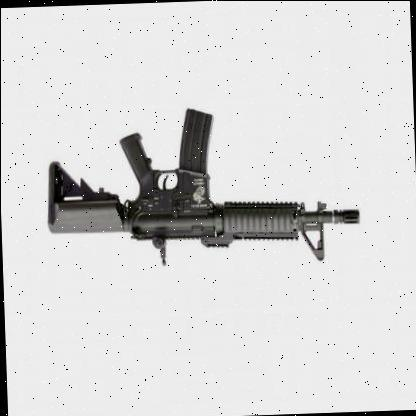rifle: (40, 95, 365, 283)
